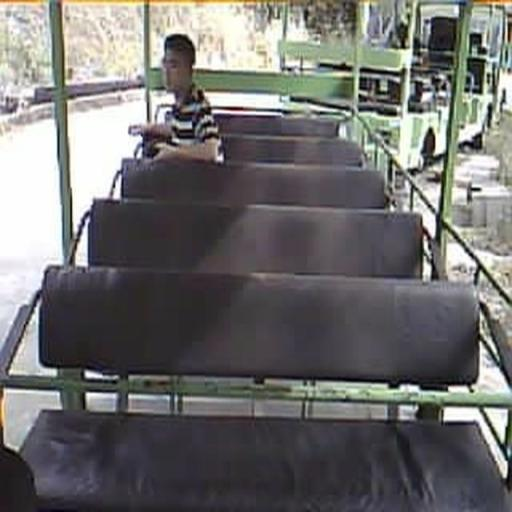persona: (130, 32, 225, 166)
